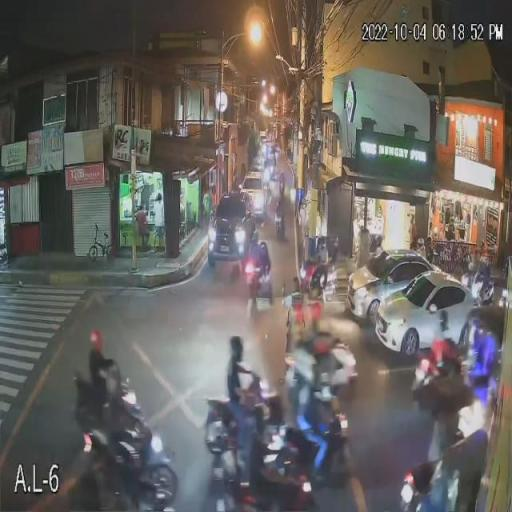helmet: (454, 398, 486, 426), (285, 345, 313, 368), (311, 334, 332, 356), (227, 334, 245, 356), (88, 330, 104, 350), (430, 310, 445, 328), (254, 238, 264, 248)
motorcycle: (76, 382, 180, 512), (253, 394, 352, 511), (204, 380, 286, 473), (397, 441, 472, 511), (412, 351, 477, 426), (294, 259, 338, 333), (243, 255, 271, 316)
rider: (428, 397, 487, 512), (286, 347, 334, 482), (226, 336, 270, 473), (102, 368, 153, 466), (86, 330, 134, 428), (306, 329, 356, 409), (465, 317, 499, 409), (430, 314, 464, 383), (300, 255, 331, 312), (244, 239, 272, 295)
